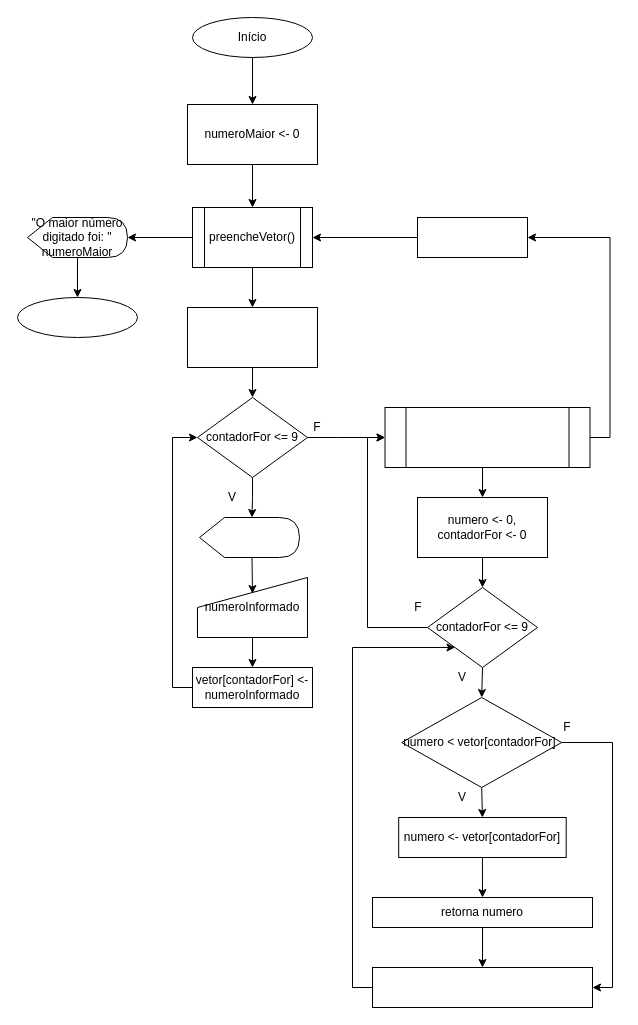
Some shapes in this 638 by 1025 pixel diagram are drawn without their labels. The box of each missing label's shape, as (x1, y1, x2, y2) in pixels:
"Informe um número": (198, 516, 300, 558)
contadorFor <- contadorFor + 1: (372, 966, 592, 1008)
Fim: (16, 296, 138, 338)
numeroInformado <- 0, numeroMaior <- 0, contadorFor <- 0, vetor[9]: (186, 306, 318, 368)
retorna numeroMaior <- numero: (416, 216, 528, 258)
validaNumeroMaior( vetor ): (384, 406, 590, 468)
